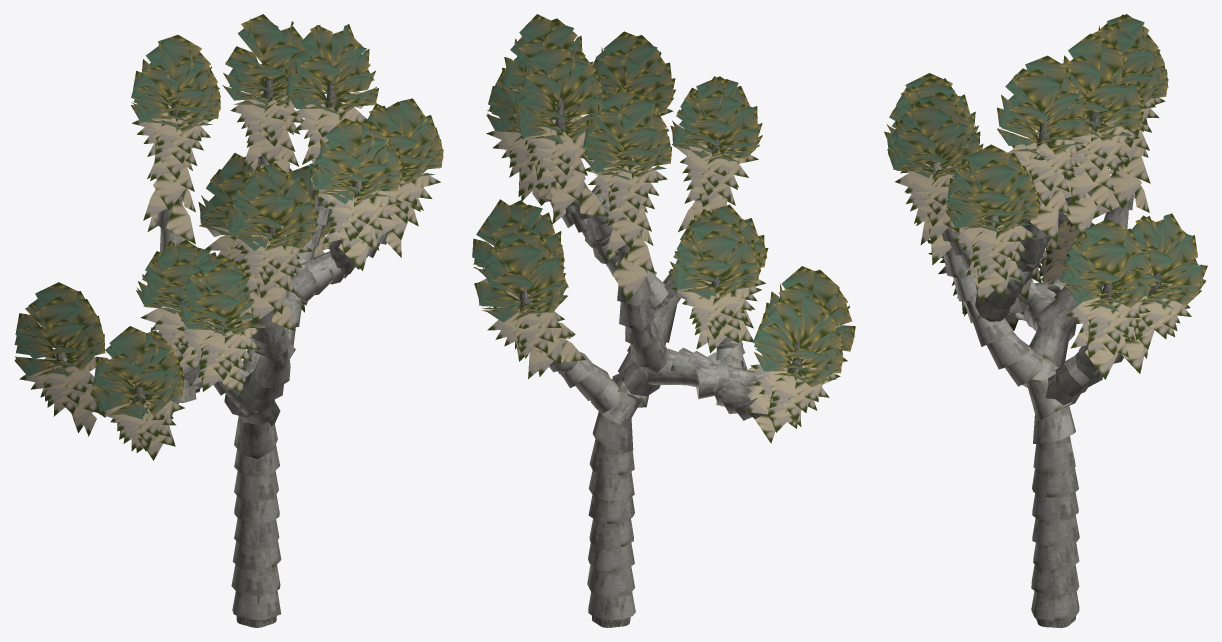
3 views of the same model, side by side, from view 1: azimuth 30°, elevation 25°; view 2: azimuth 150°, elevation 25°; view 3: azimuth 270°, elevation 25° (orthographic). The views are drawn at different scales.
Parts seen in each view (by area): view 1: jt5; view 2: jt5; view 3: jt5.
Part boxes in pixels (bbox=[...]): jt5: bbox=[14, 14, 443, 627]; jt5: bbox=[472, 14, 855, 627]; jt5: bbox=[884, 14, 1207, 627].
Bounding box in the file's own units: 2.86 × 4.17 × 2.04.
